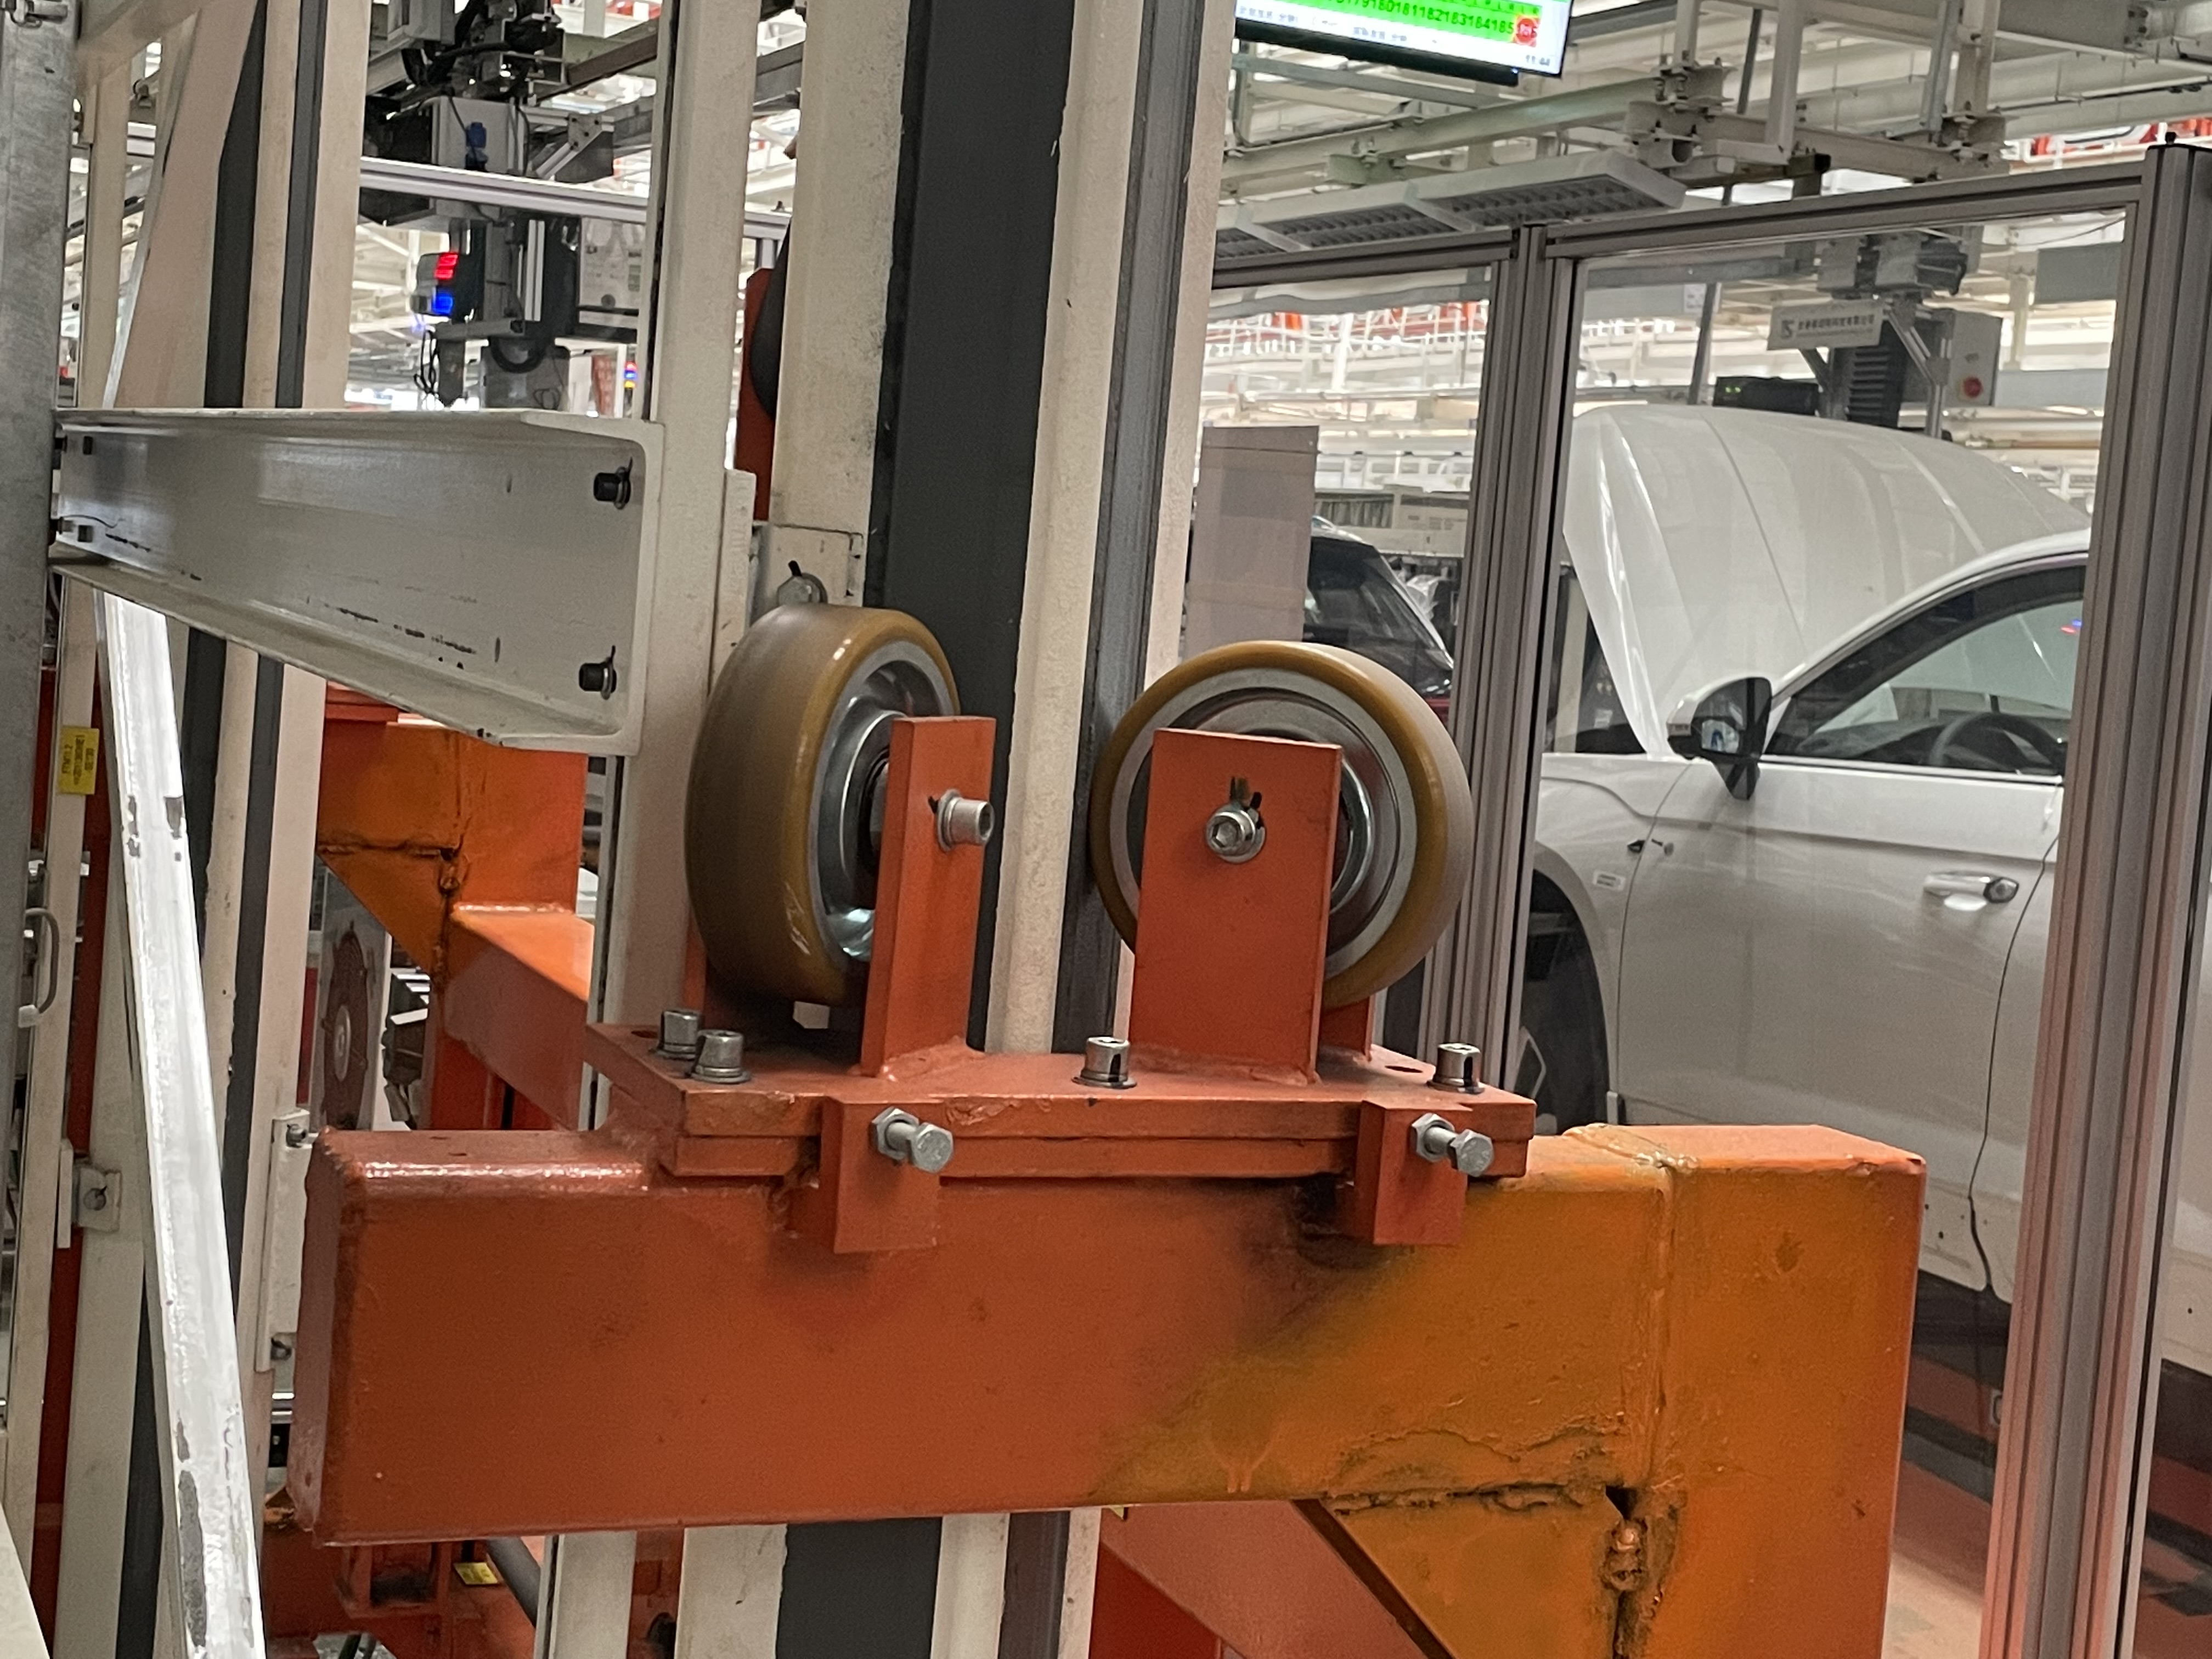good_wheel: (1090, 617, 1496, 1021), (672, 561, 977, 1012)
